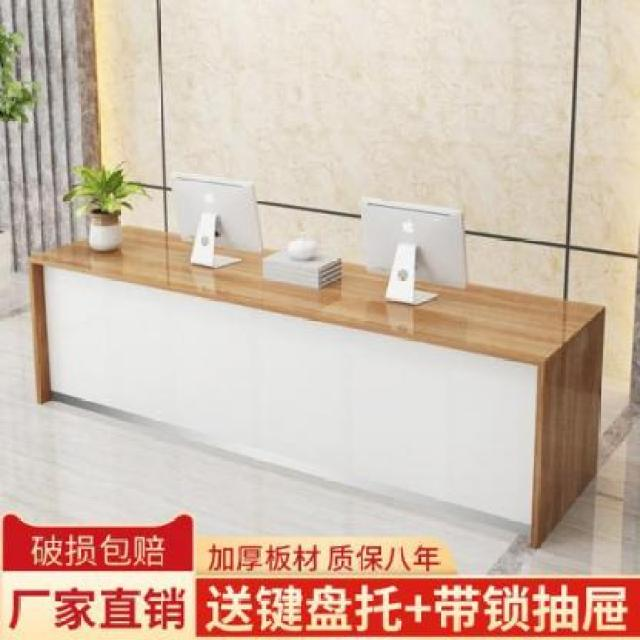frontdesk: (20, 208, 618, 560)
